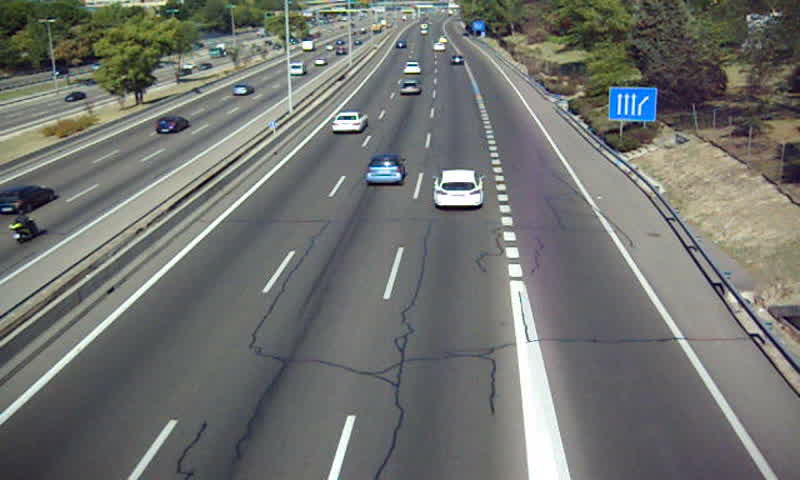car: (432, 170, 487, 212), (363, 156, 406, 187), (331, 113, 366, 133), (401, 81, 421, 96), (402, 61, 421, 75), (450, 53, 466, 66)
